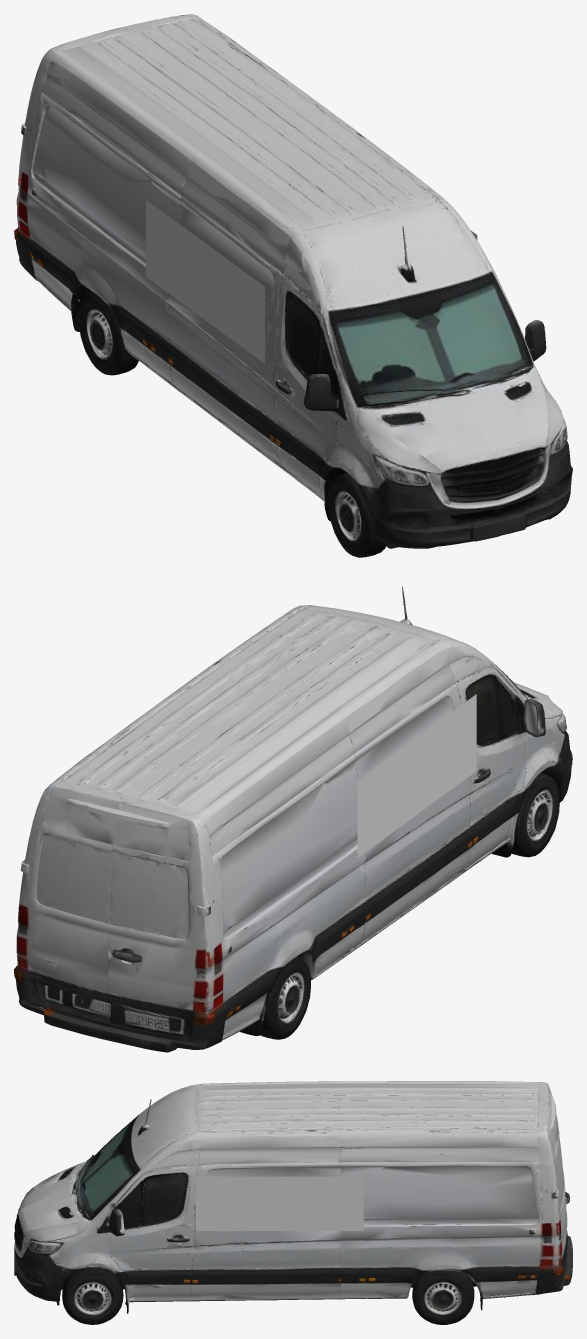
The model's file is van.glb.
3 views of the same model, one above another, from view 1: azimuth 30°, elevation 25°; view 2: azimuth 150°, elevation 25°; view 3: azimuth 270°, elevation 25° (orthographic). The views are drawn at different scales.
Visible parts, largest first — view 1: van_mesh, van_decal_L; view 2: van_mesh, van_decal_L; view 3: van_mesh, van_decal_R.
Boxes of the visible parts, box(x1,y1,x2,y2) form: van_mesh: box(14, 14, 572, 557); van_decal_L: box(146, 200, 264, 363); van_mesh: box(14, 586, 572, 1052); van_decal_L: box(357, 694, 476, 857); van_mesh: box(14, 1081, 572, 1324); van_decal_R: box(196, 1176, 363, 1230).
Bounding box in the file's own units: 2.45 × 2.68 × 7.
Materials: 2 (1 with a texture image).
